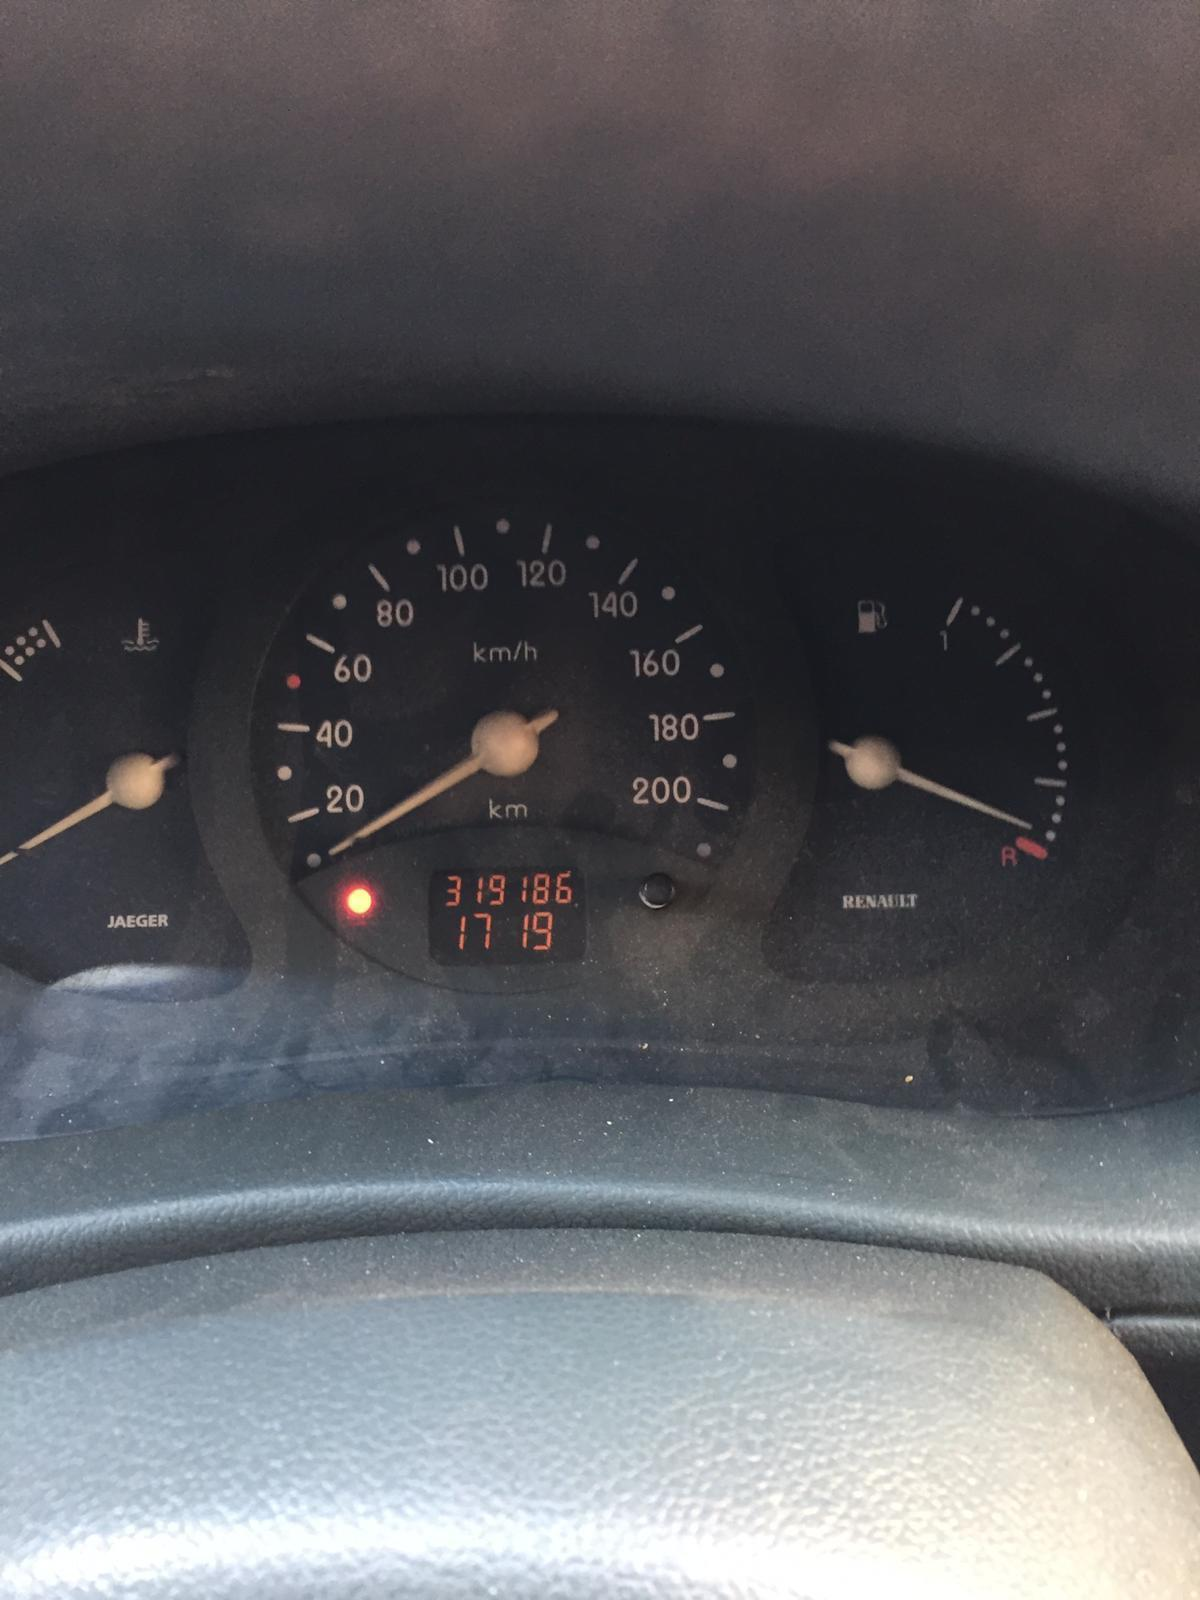1: (458, 915, 466, 950), (521, 913, 529, 949), (475, 876, 484, 905), (521, 876, 528, 903)
3: (444, 876, 463, 906)
6: (555, 872, 572, 903)
7: (471, 912, 492, 949)
8: (532, 873, 550, 905)
9: (531, 910, 552, 950), (488, 874, 505, 906)
odometer: (426, 863, 591, 968)
